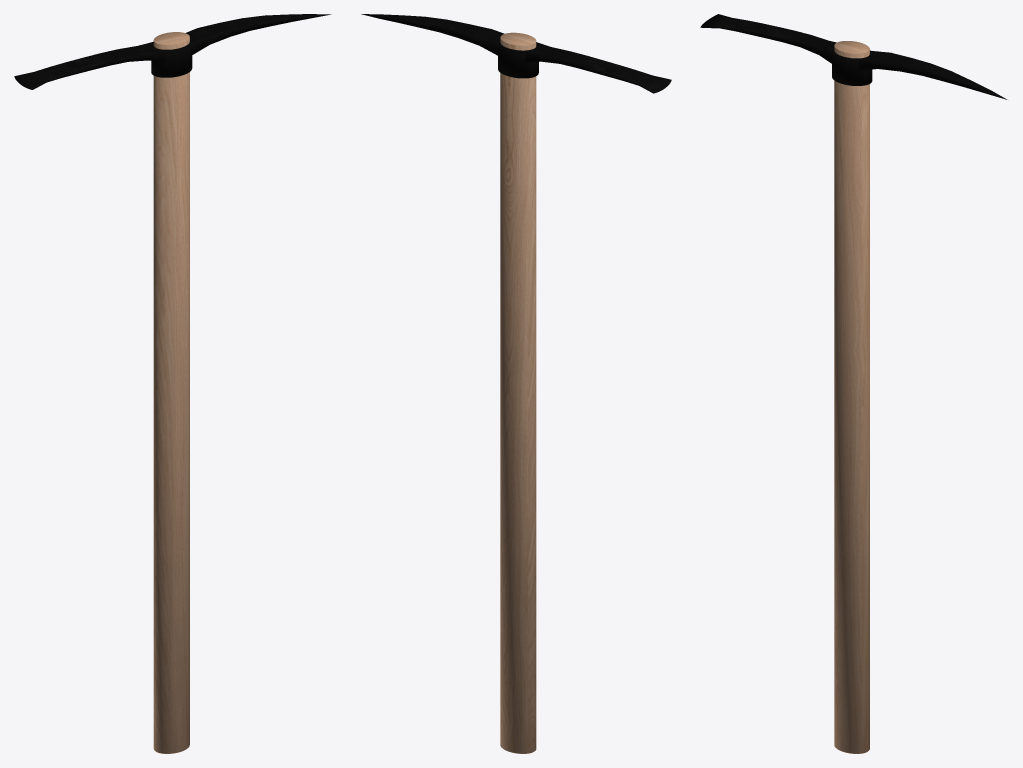
Rendered from Pickaxe 5 Final.fbx.
The picture shows the model from 3 angles, left to right: view 1: azimuth 30°, elevation 25°; view 2: azimuth 150°, elevation 25°; view 3: azimuth 330°, elevation 25°; orthographic projection.
Parts seen in each view (by area): view 1: Original HP Crude Pickaxe, Pick Head; view 2: Original HP Crude Pickaxe, Pick Head; view 3: Original HP Crude Pickaxe, Pick Head.
Boxes of the visible parts, box(x1,y1,x2,y2) form: Original HP Crude Pickaxe: box(153, 32, 189, 753); Pick Head: box(14, 14, 331, 89); Original HP Crude Pickaxe: box(500, 32, 536, 753); Pick Head: box(361, 14, 671, 93); Original HP Crude Pickaxe: box(834, 41, 869, 753); Pick Head: box(700, 14, 1007, 99).
Size of the model in its own units: 35.15 by 77.33 by 3.75.
2 materials, 2 textured.
